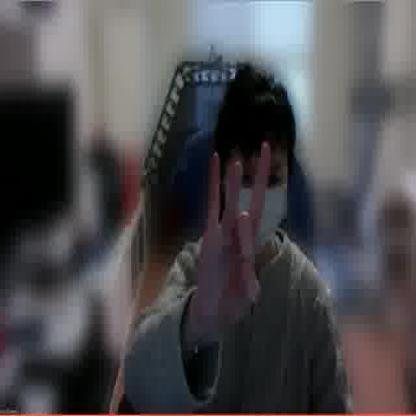eight: (195, 142, 274, 336)
